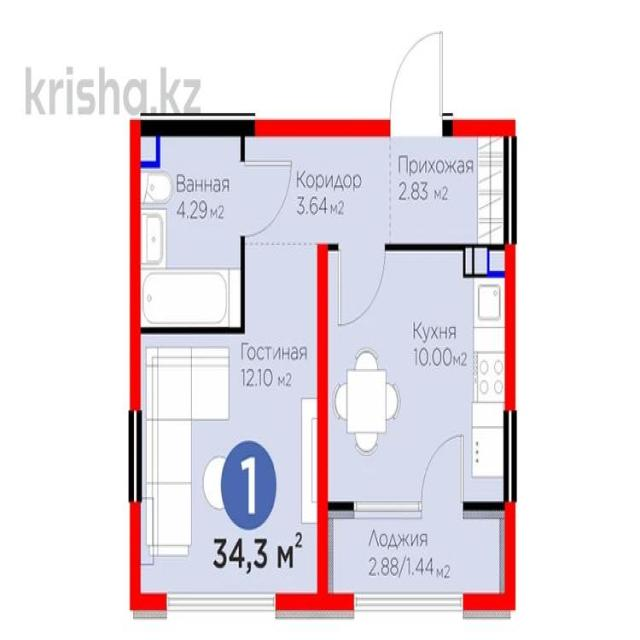balcony: (322, 504, 514, 608)
bathroom: (133, 123, 244, 332)
hallway: (243, 119, 512, 246)
kitchen: (319, 244, 513, 514)
living_room: (133, 245, 325, 610)
